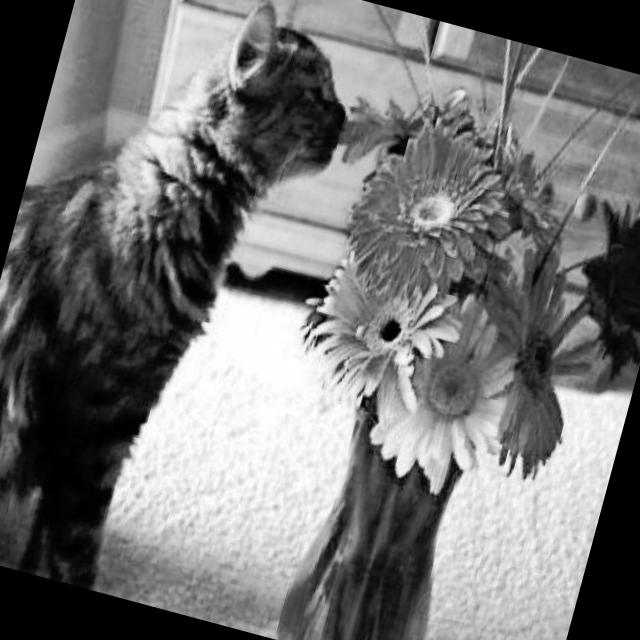Cat: (0, 0, 385, 625)
